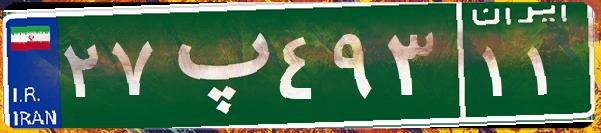1: (475, 38, 525, 113), (525, 38, 570, 115)
2: (57, 26, 110, 107)
3: (385, 28, 445, 110)
4: (273, 28, 330, 110)
7: (110, 28, 158, 105)
9: (330, 28, 385, 110)
پ: (158, 15, 273, 115)
